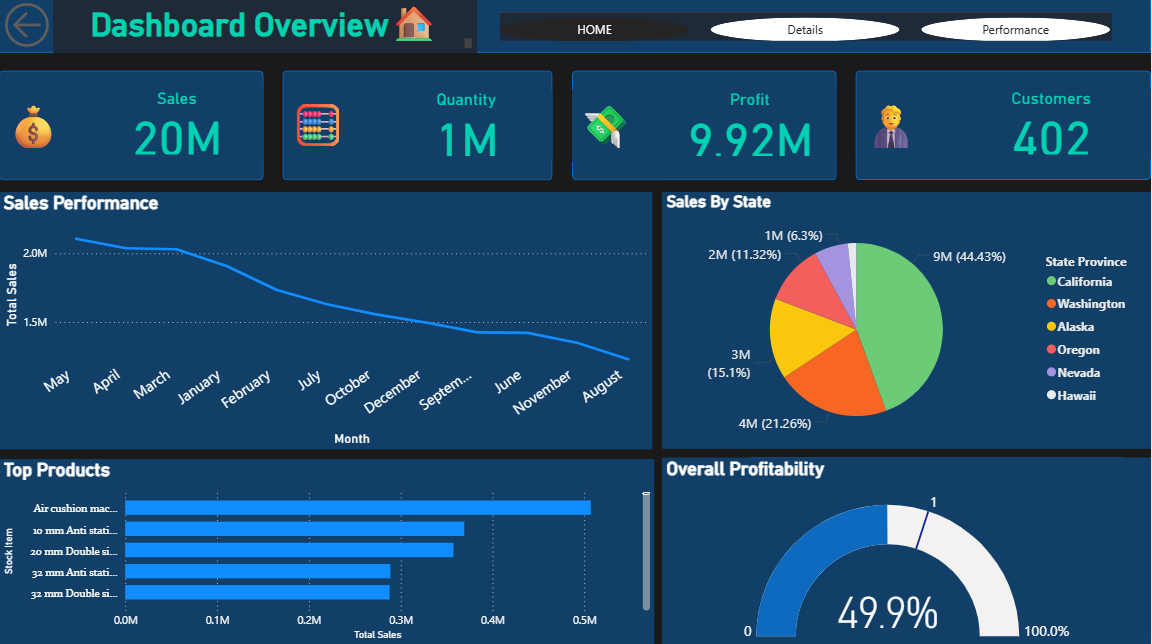

The dashboard page shown, as its layout file describes it:
{"tool":"powerbi","page":{"name":"HOME","canvas":[1280,720],"ordinal":0},"visuals":[{"type":"shape","box":[0,0,1280,62],"z":0},{"type":"shape","box":[0,82,294,122],"z":1000},{"type":"shape","box":[315.3,82,300,122],"z":2000},{"type":"shape","box":[636.7,82,294,122],"z":3000},{"type":"shape","box":[951.7,81.7,328.3,121.7],"z":4000},{"type":"shape","box":[834.9,511.9,415.8,208.7],"z":5000},{"type":"card","title":"Sales","fields":{"Values":["FactSale.Total Sales"]},"box":[102,102,192,78],"z":6000},{"type":"card","title":"Quantity","fields":{"Values":["Sum(FactSale.Quantity)"]},"box":[424,104,192,78],"z":7000},{"type":"card","title":"Profit","fields":{"Values":["Sum(FactSale.Profit)"]},"box":[738,104,192,78],"z":8000},{"type":"card","title":"Customers","fields":{"Values":["DimCustomers.Customer numbers"]},"box":[1058.3,101.7,221.7,78.3],"z":9000},{"type":"textbox","box":[0,104,128,76],"z":10000},{"type":"textbox","box":[316,102,90,80],"z":11000},{"type":"textbox","box":[636,104,80,80],"z":12000},{"type":"textbox","box":[954,104,80,80],"z":13000},{"type":"lineChart","title":"Sales Performance   ","fields":{"Category":["DimDate.Month"],"Y":["FactSale.Total Sales"]},"box":[0,216,726,286],"z":14000},{"type":"pieChart","title":"Sales By State","fields":{"Category":["DimCity.State Province Hierarchy.State Province","DimCity.State Province Hierarchy.City"],"Y":["FactSale.Total Sales"]},"box":[736.7,216.7,543.3,285],"z":15000},{"type":"barChart","title":"Top Products","fields":{"Category":["DimStockItem.Stock Item"],"Y":["FactSale.Total Sales"]},"box":[0,514,728,206],"z":16000},{"type":"gauge","title":"Overall Profitability","fields":{"Y":["FactSale.Profitability"],"TargetValue":["FactSale.Profitability Target"],"MaxValue":["FactSale.Maximum"],"MinValue":["FactSale.Minimum"]},"box":[736.7,511.7,543.3,208.3],"z":17000},{"type":"pageNavigator","box":[556,16,680,32],"z":18000},{"type":"actionButton","box":[0,0,128,62],"z":19000},{"type":"textbox","title":"Dashboard Overview🏠","box":[60,0,470,62],"z":20000}]}

Visuals, with their boxes in screenshot pixels (x1, y1, x2, y2), scaled from the page's 1280x720 canvas onto the 1152x644 screenshot:
shape: bbox=(0, 0, 1151, 55)
shape: bbox=(0, 73, 265, 182)
shape: bbox=(284, 73, 554, 182)
shape: bbox=(573, 73, 838, 182)
shape: bbox=(857, 73, 1151, 182)
shape: bbox=(751, 458, 1126, 643)
"Sales" card: bbox=(92, 91, 265, 161)
"Quantity" card: bbox=(382, 93, 554, 163)
"Profit" card: bbox=(664, 93, 837, 163)
"Customers" card: bbox=(952, 91, 1151, 161)
textbox: bbox=(0, 93, 115, 161)
textbox: bbox=(284, 91, 365, 163)
textbox: bbox=(572, 93, 644, 165)
textbox: bbox=(859, 93, 931, 165)
"Sales Performance   " lineChart: bbox=(0, 193, 653, 449)
"Sales By State" pieChart: bbox=(663, 194, 1151, 449)
"Top Products" barChart: bbox=(0, 460, 655, 643)
"Overall Profitability" gauge: bbox=(663, 458, 1151, 643)
pageNavigator: bbox=(500, 14, 1112, 43)
actionButton: bbox=(0, 0, 115, 55)
"Dashboard Overview🏠" textbox: bbox=(54, 0, 477, 55)
